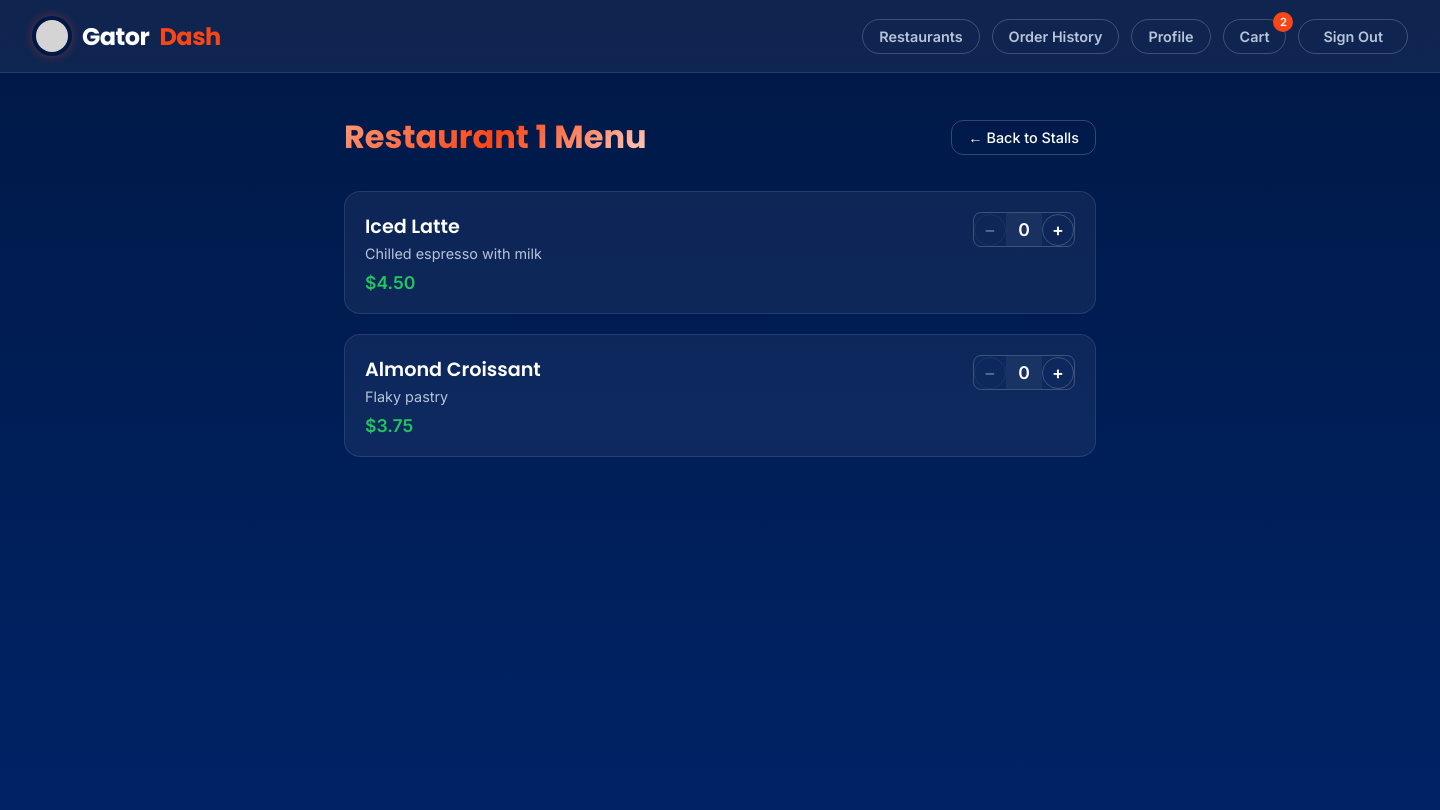
Test: Menu Component › quantity selector decrements correctly
Check: the heading "Iced Latte" is shown, box x1=365 y1=213 x2=460 y2=240
Click the button "+" in the row of "Iced Latte" at coordinates (1058, 230), box x1=1042 y1=214 x2=1074 y2=246
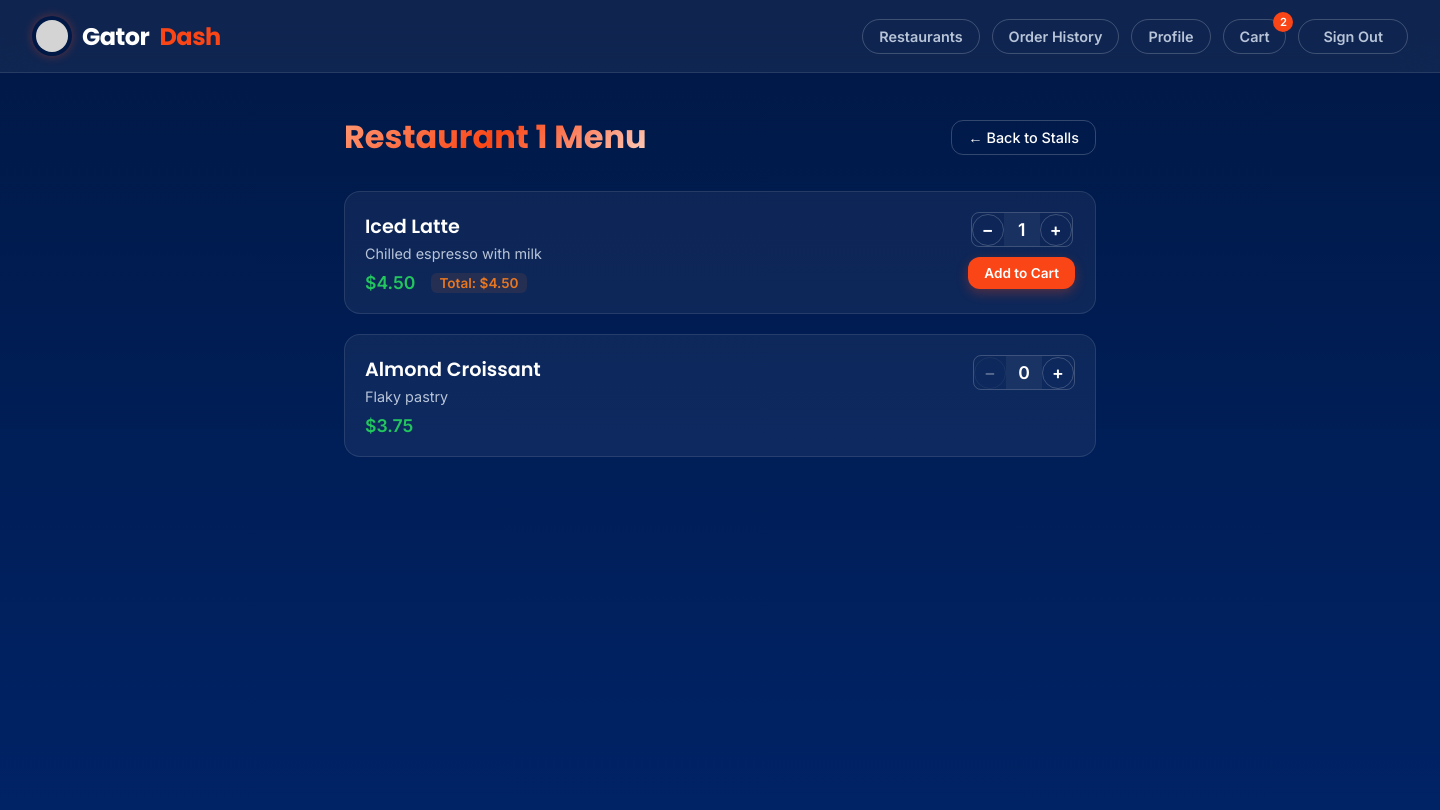
Click the button "−" in the row of "Iced Latte" at coordinates (988, 230), box x1=972 y1=214 x2=1004 y2=246
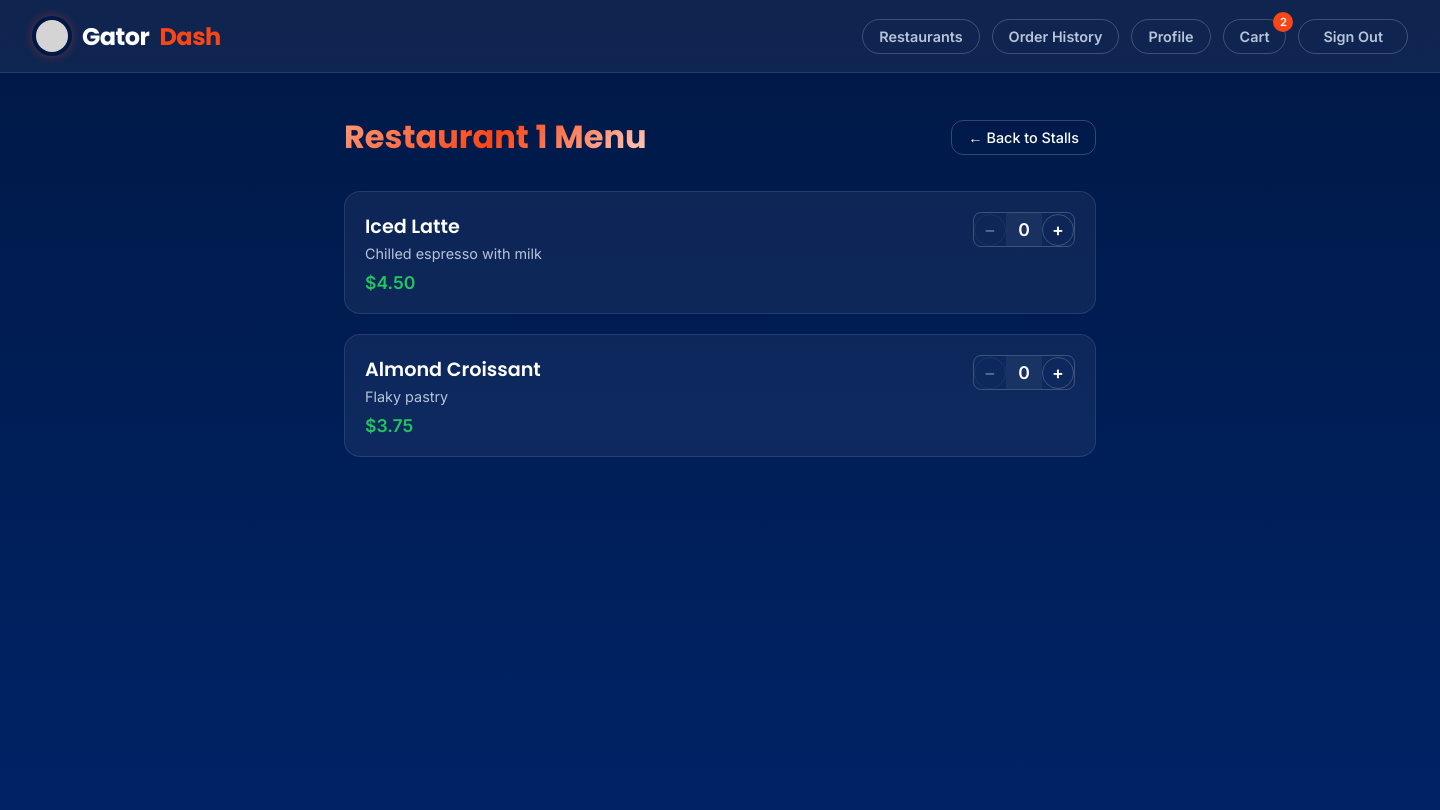
Check: the text "0" in the row of "Iced Latte" is shown, box x1=1018 y1=219 x2=1030 y2=240
